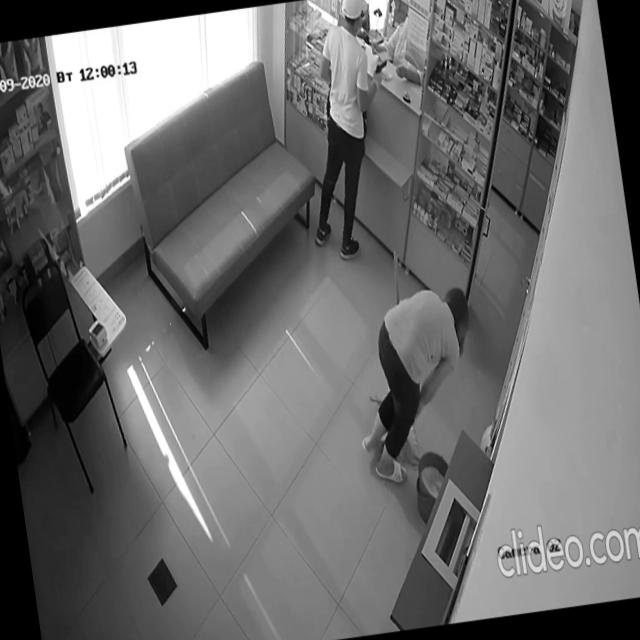gun: (374, 58, 390, 75)
person: (342, 280, 495, 495)
person with a gun: (281, 0, 414, 266)
